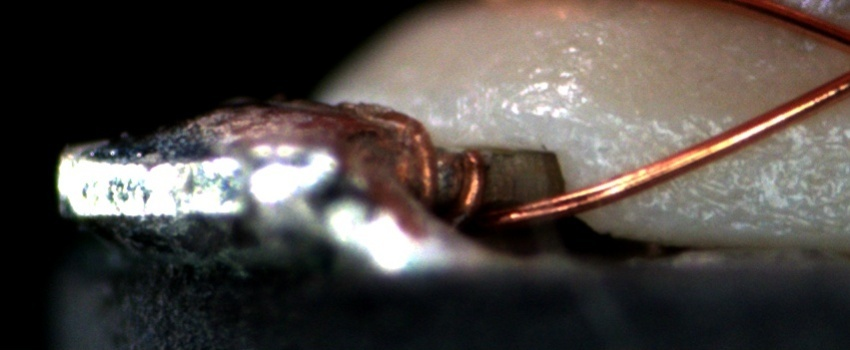DL: (610, 105, 849, 144)
TE: (339, 104, 489, 218)
